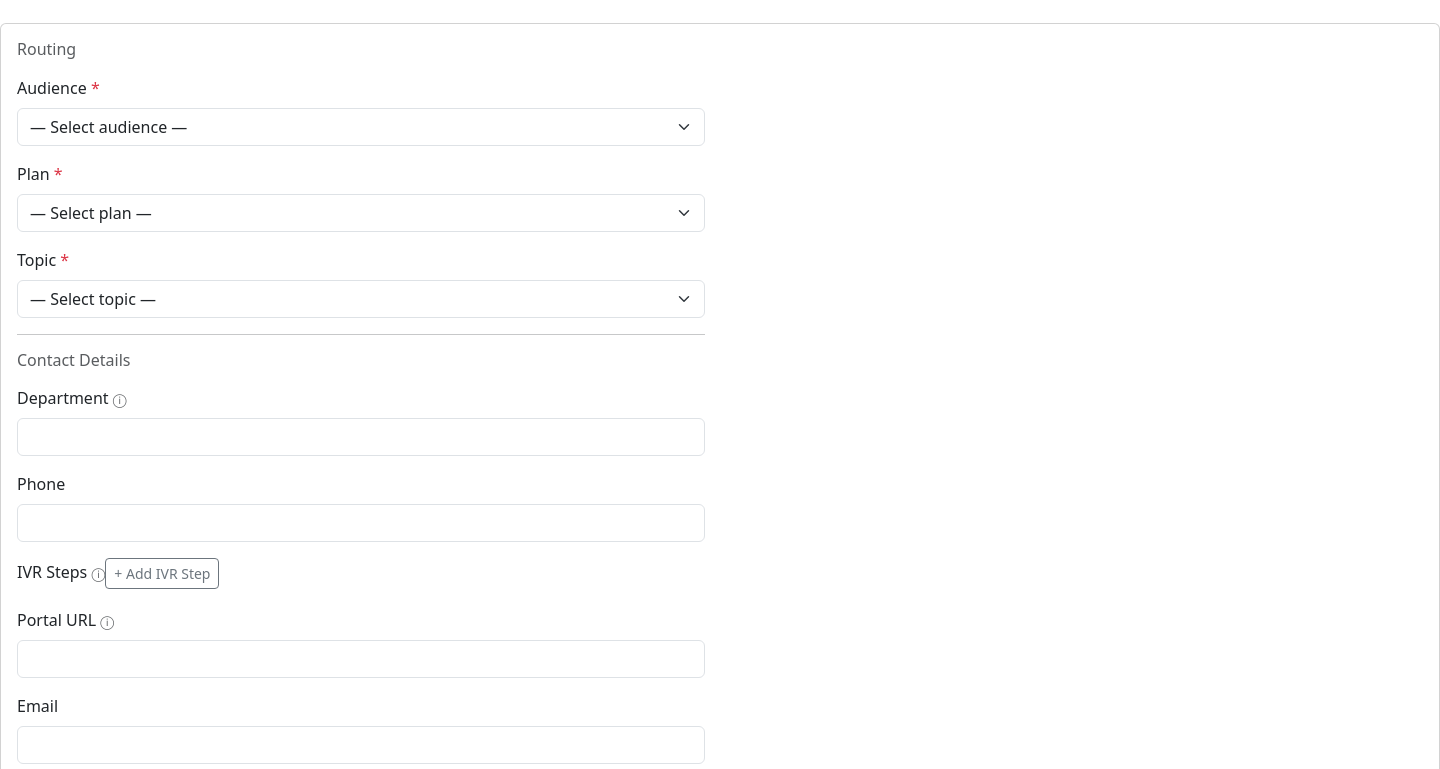
Test: PathwayFormPage › Create mode › shows API error message on failed create
Select "Employer" in the dropdown labelled "Audience *" at (361,127), box [17, 108, 705, 146]
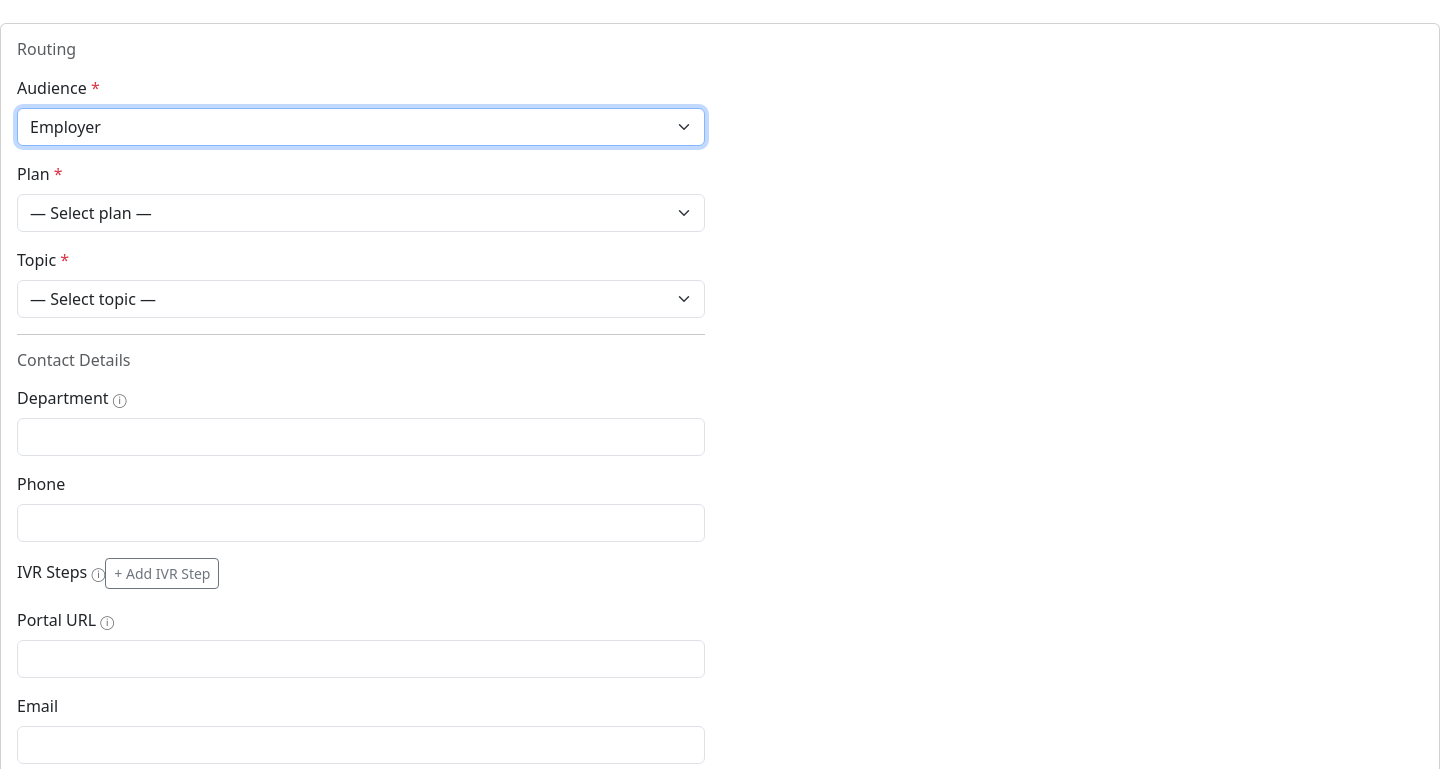
Select "HMO" in the dropdown labelled "Plan *" at (361,213), box [17, 194, 705, 232]
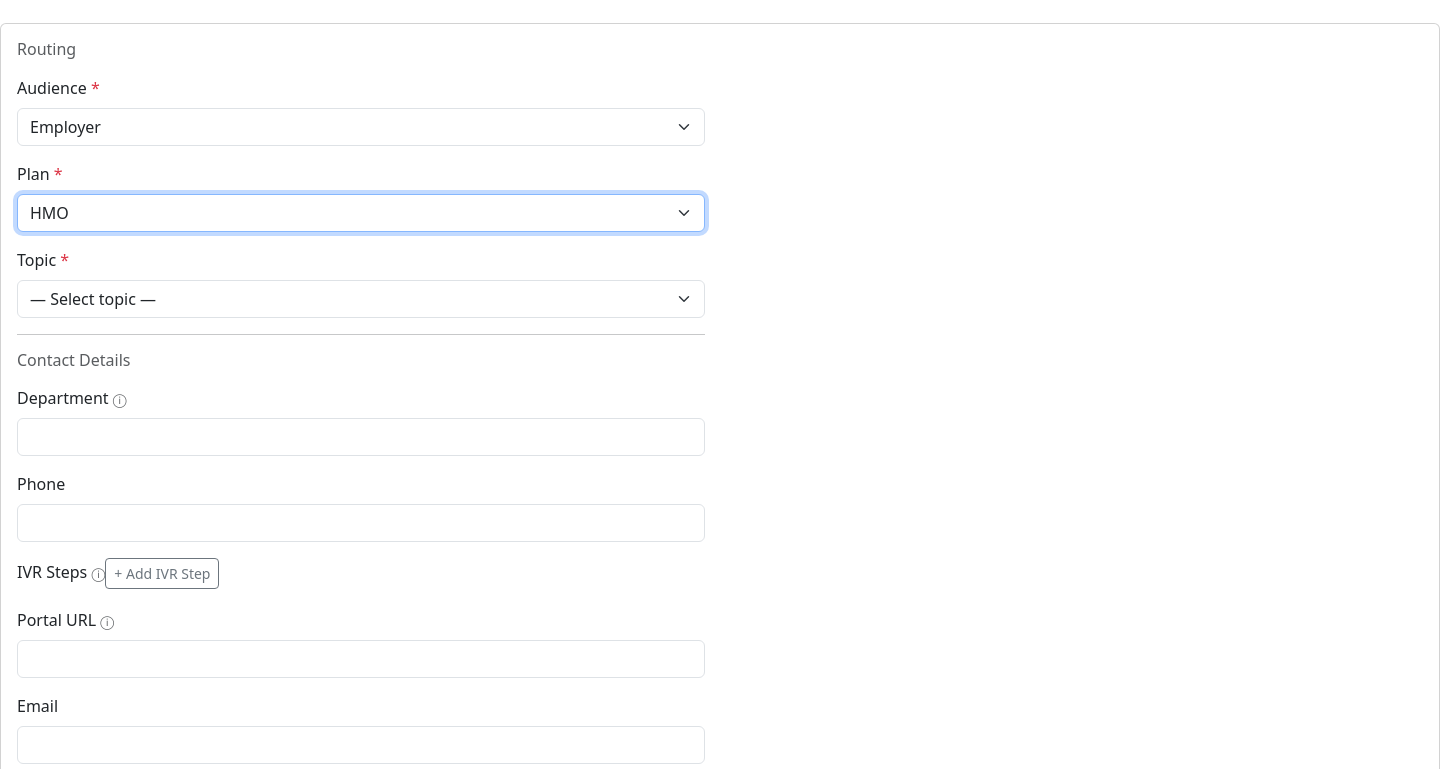
Select "Dental" in the dropdown labelled "Topic *" at (361,299), box [17, 280, 705, 318]
(page scrolled)
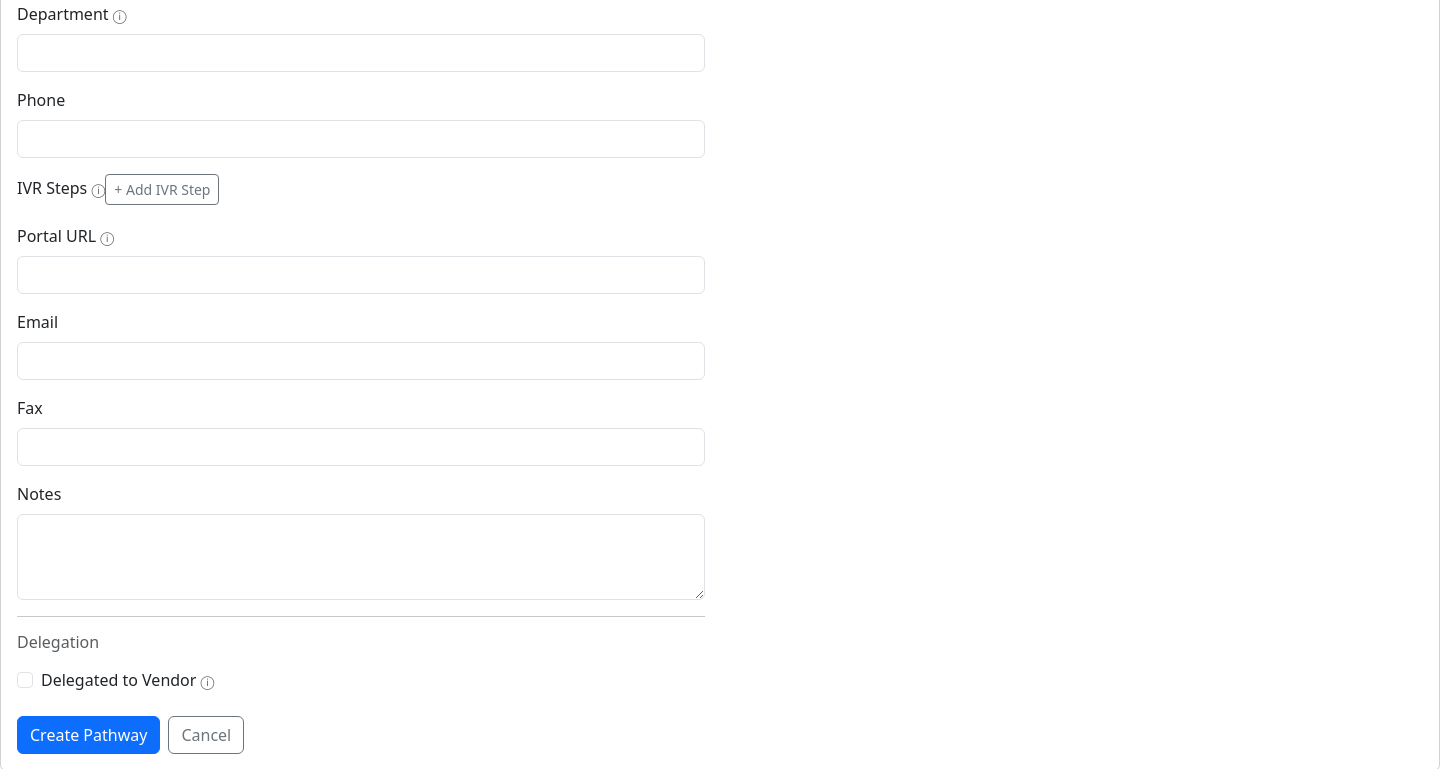
Click the button "Create Pathway" at (89,735), box [17, 716, 160, 754]
(page scrolled)
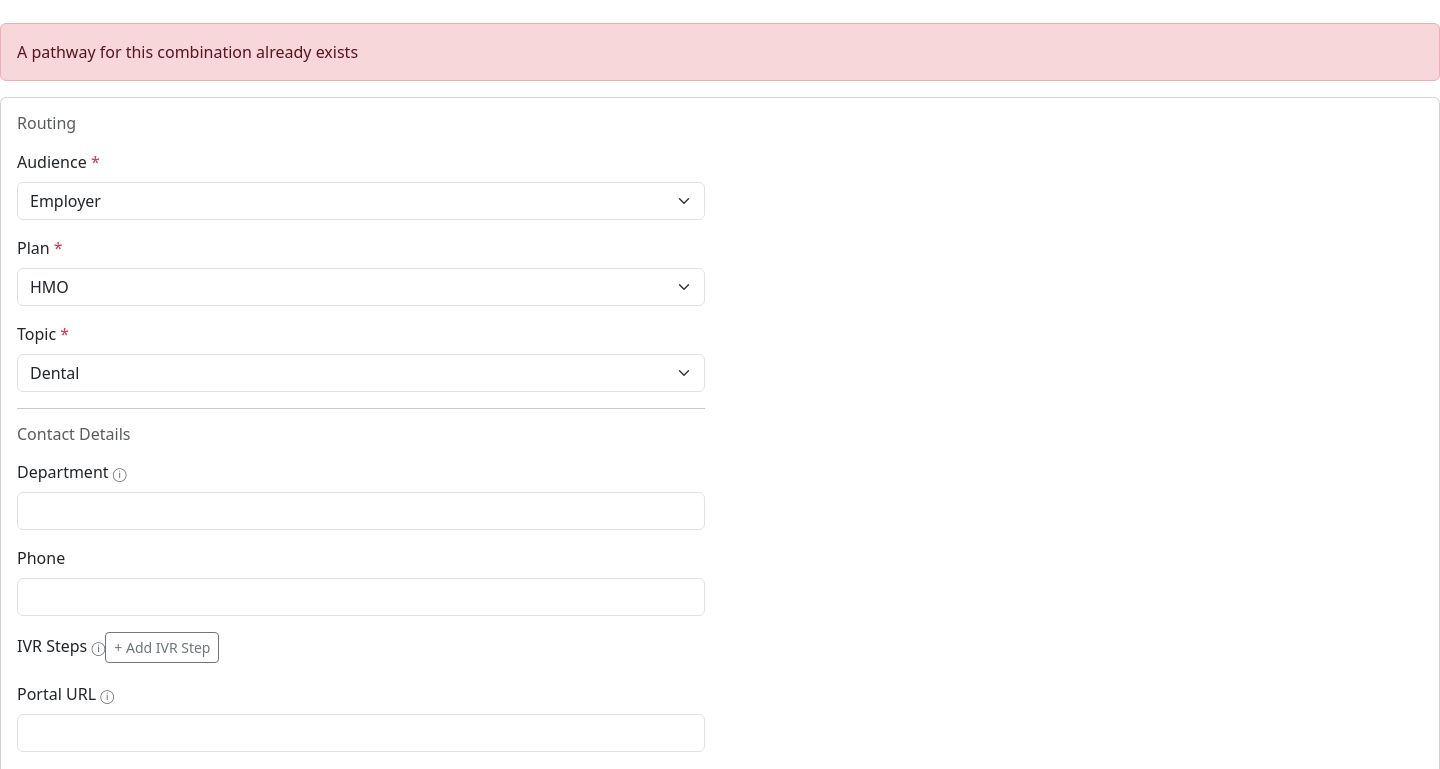
Check: the text "A pathway for this combination already exists" is shown, box [0, 23, 1439, 81]
